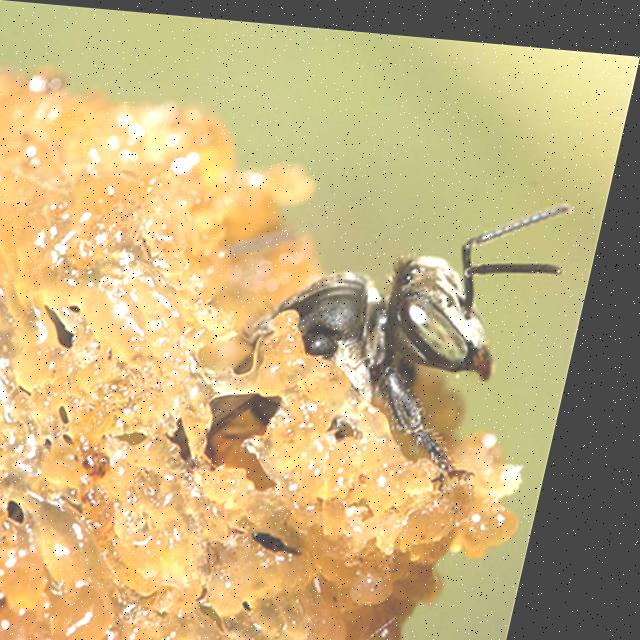Meliponula: (205, 162, 595, 491)
